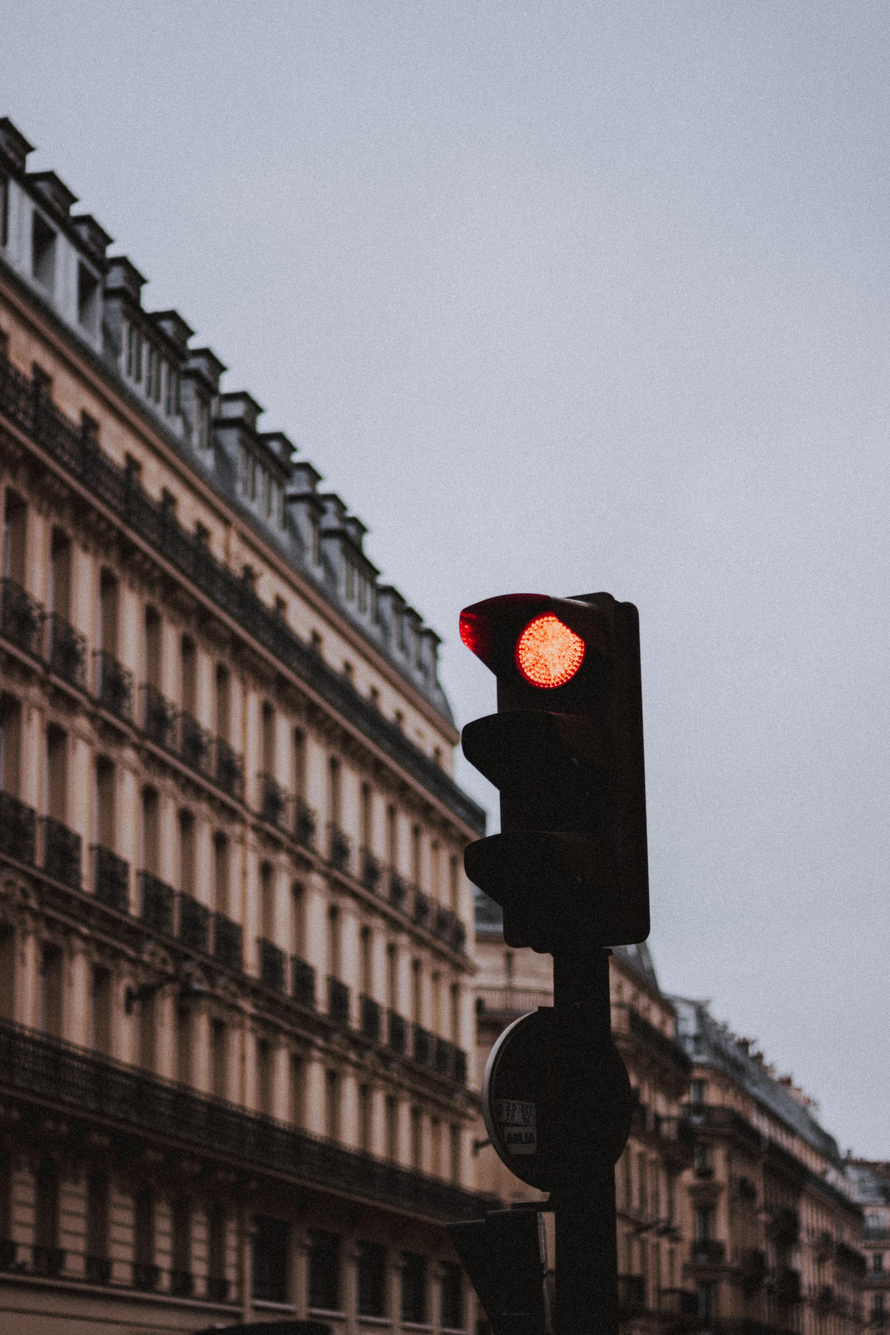red: (428, 546, 692, 1000)
